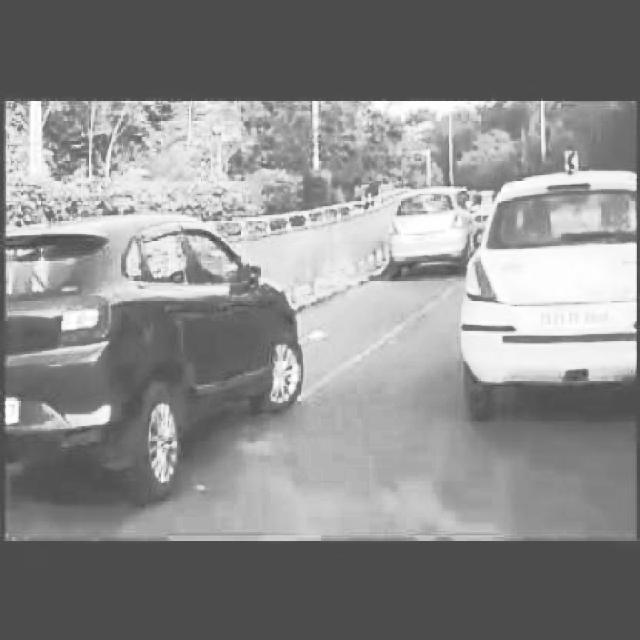Car: (6, 204, 305, 493), (490, 183, 626, 392), (384, 180, 474, 275)
